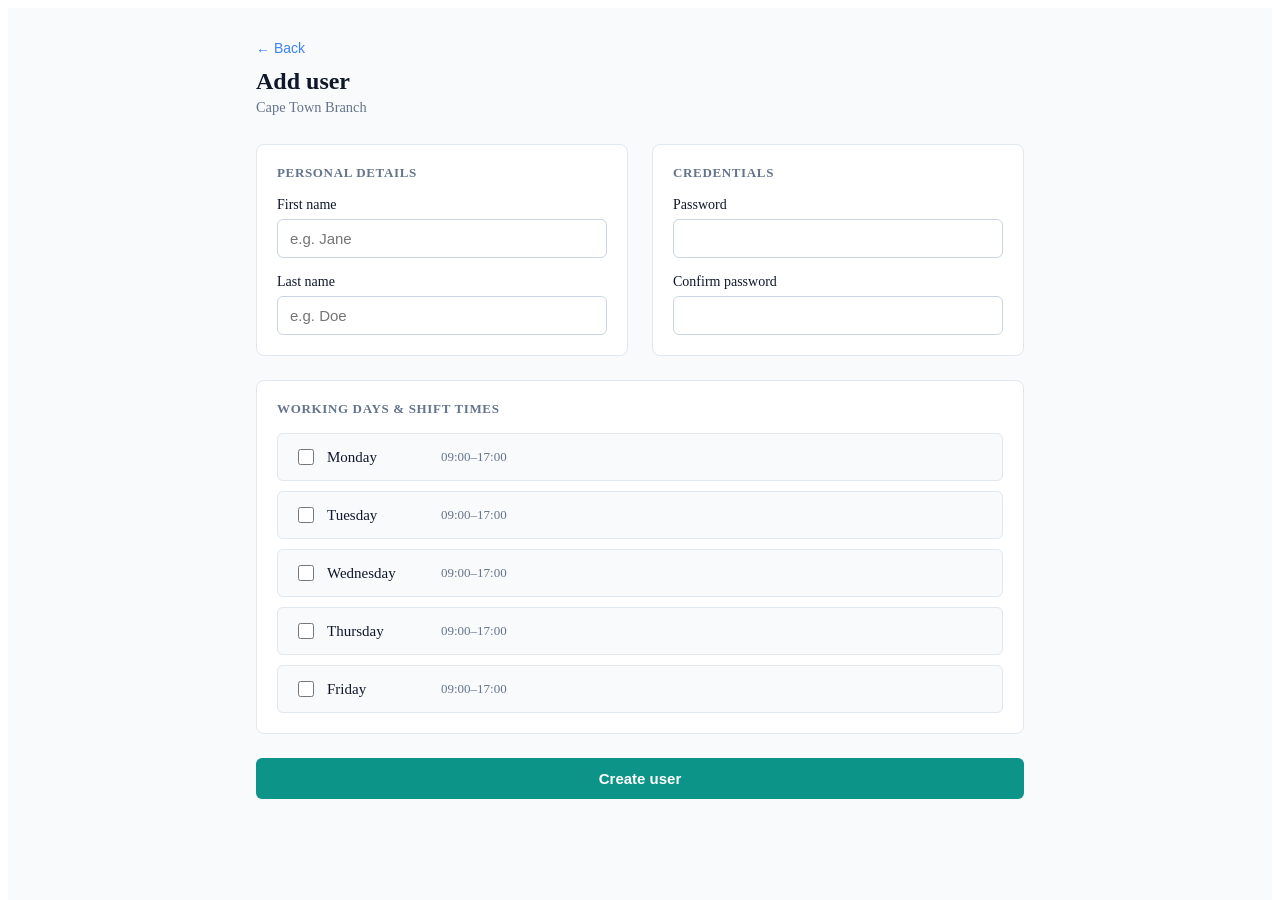
Test: AddUserView › shows username modal after successful submit
The width and height of the screenshot is (1280, 900).
Type "Jane" into the field with test id "first-name-input".
click(442, 238); type("Jane")  # box top-left (277, 219), bottom-right (607, 258)
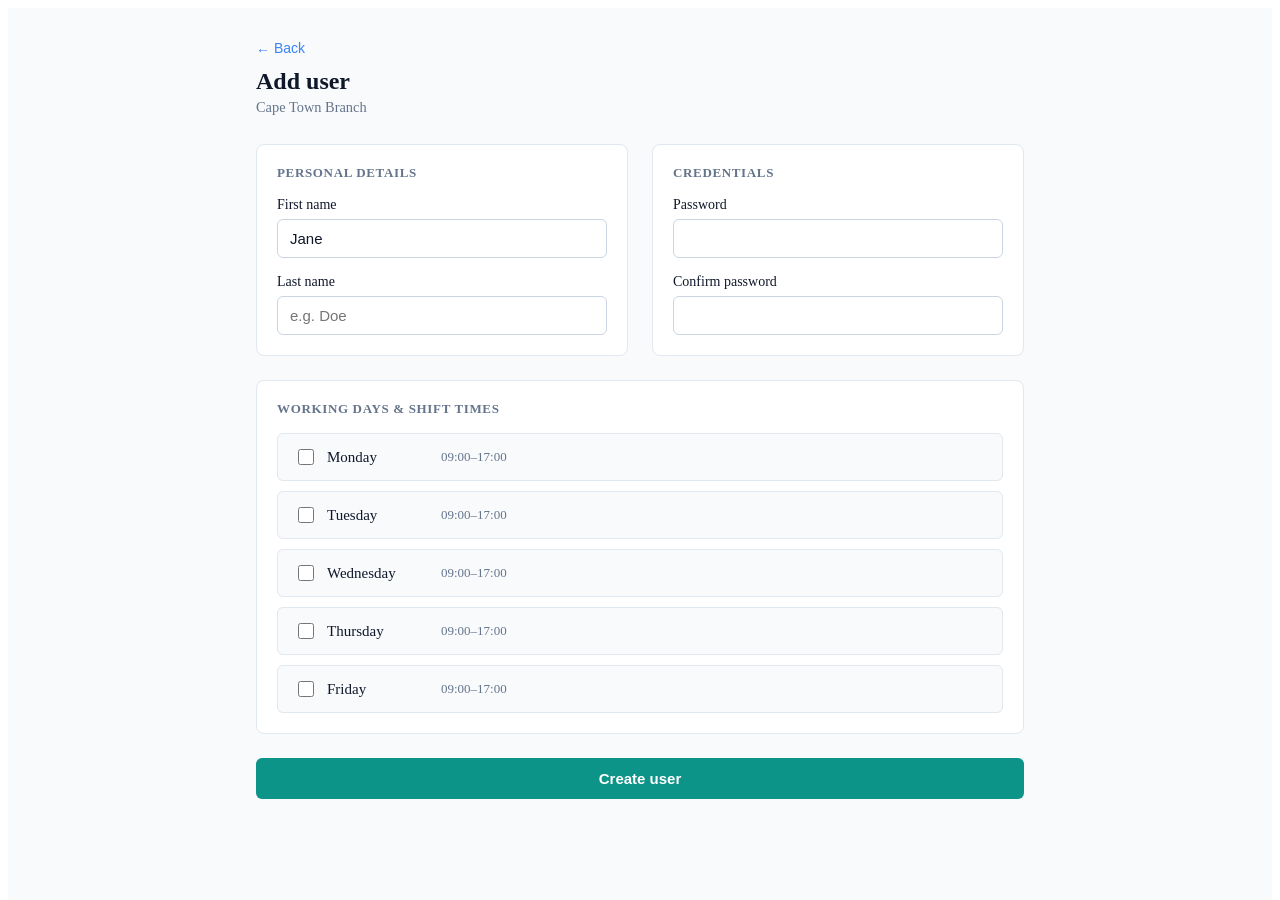
Type "Doe" into the field with test id "last-name-input".
click(442, 316); type("Doe")  # box top-left (277, 296), bottom-right (607, 335)
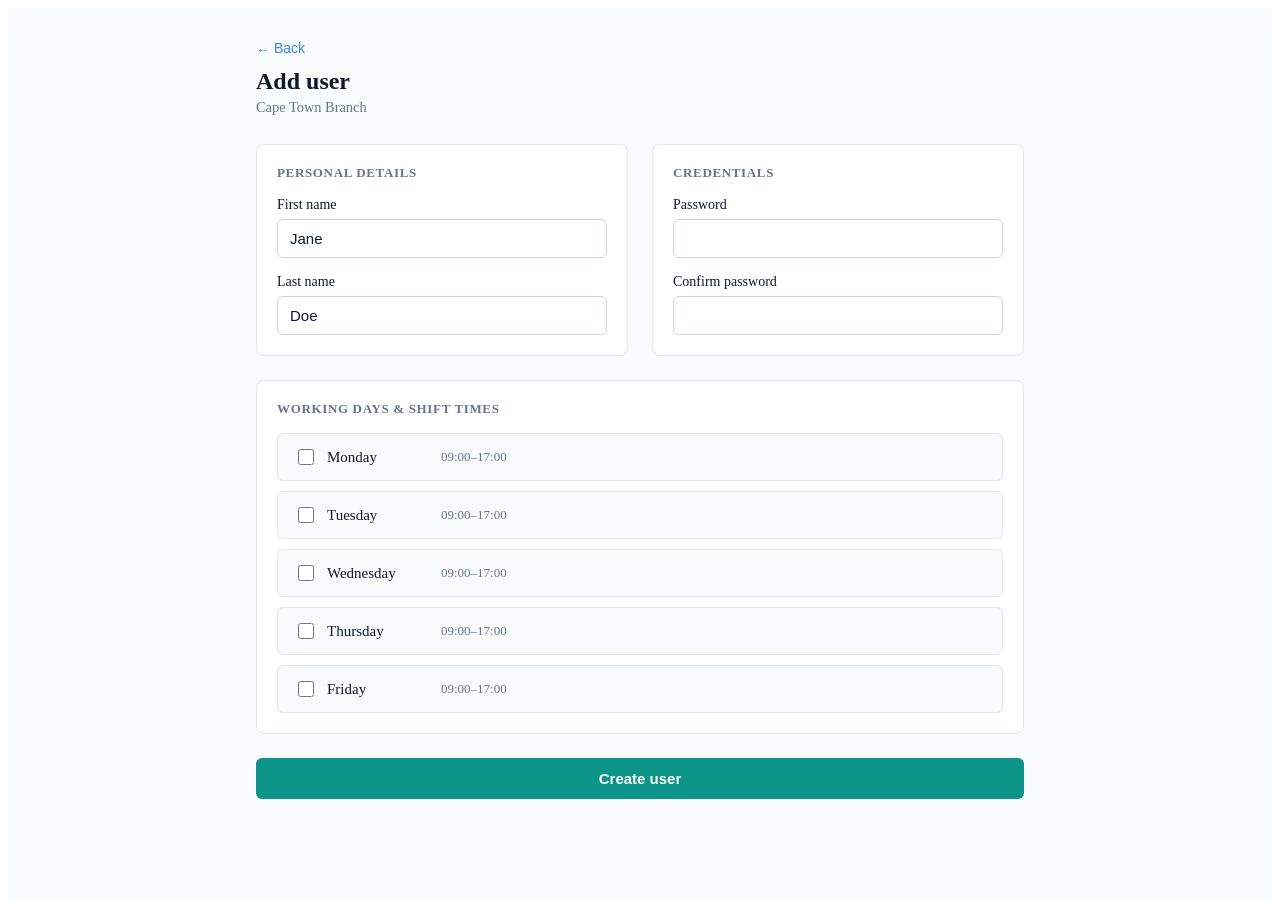
Type "secret99" into the password field with test id "password-input".
click(838, 238); type("secret99")  # box top-left (673, 219), bottom-right (1003, 258)
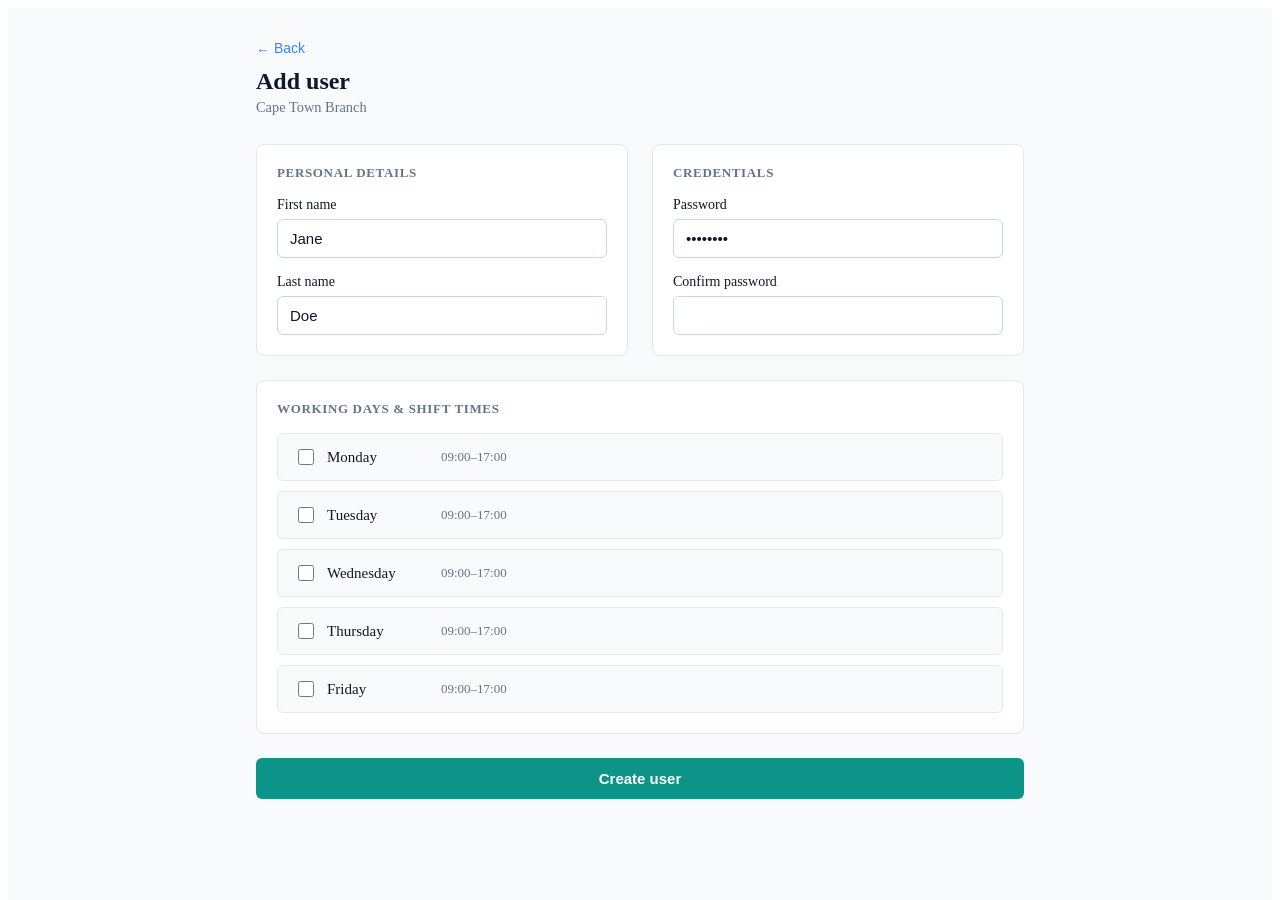
Type "secret99" into the password field with test id "confirm-password-input".
click(838, 316); type("secret99")  # box top-left (673, 296), bottom-right (1003, 335)
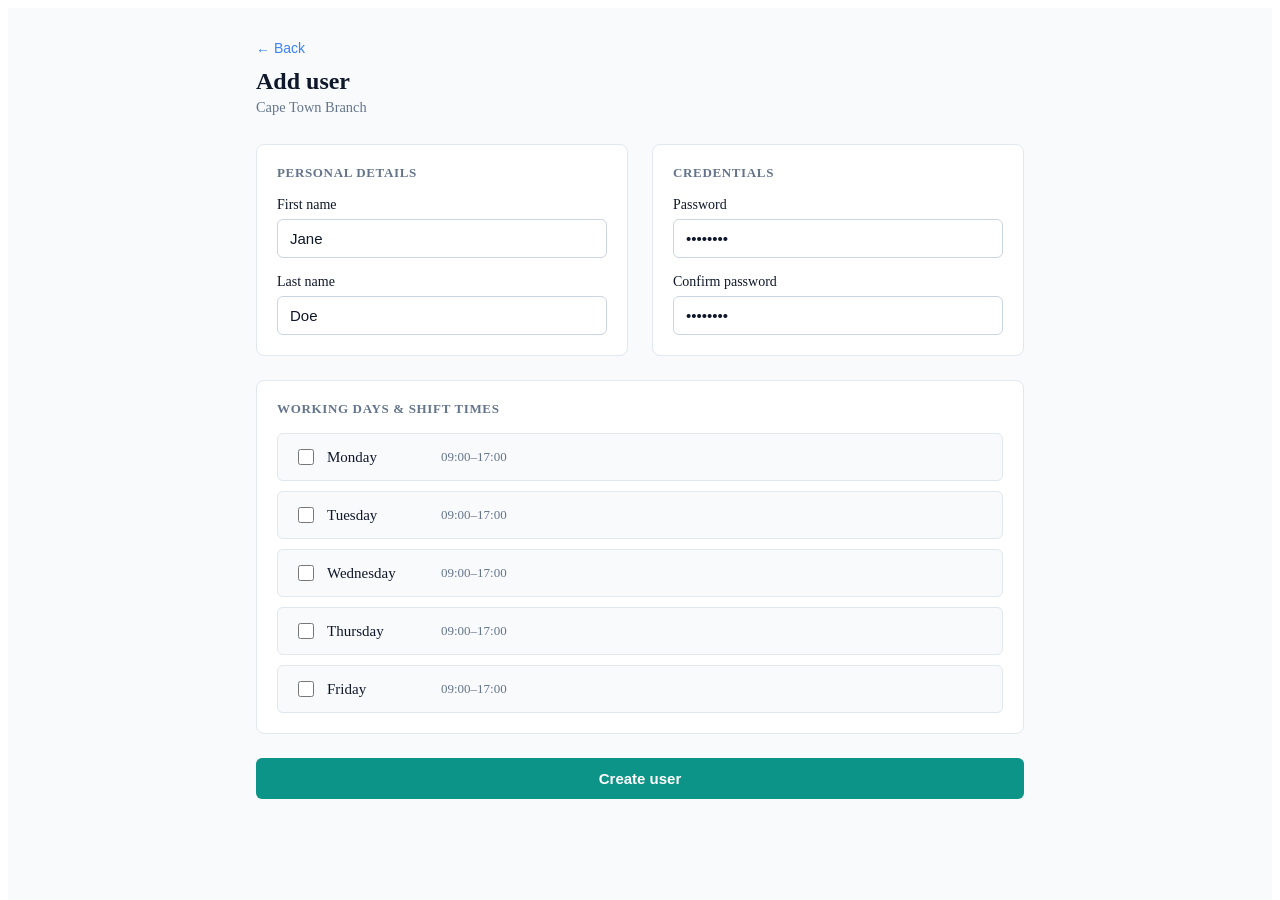
Click the checkbox with test id "work-day-monday".
click(306, 457)  # box top-left (298, 449), bottom-right (314, 465)
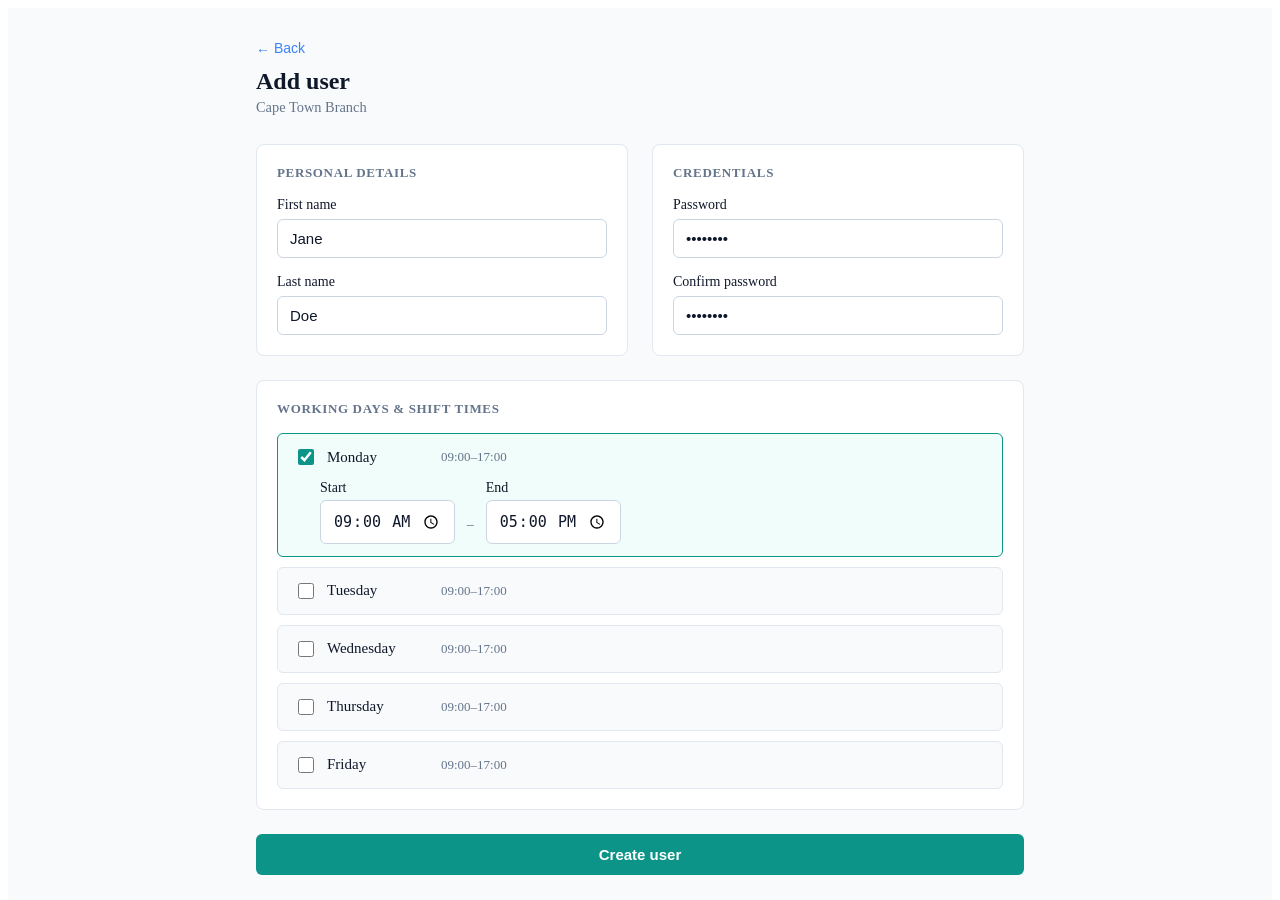
Submit the form with test id "add-user-form", box top-left (256, 144), bottom-right (1024, 875)
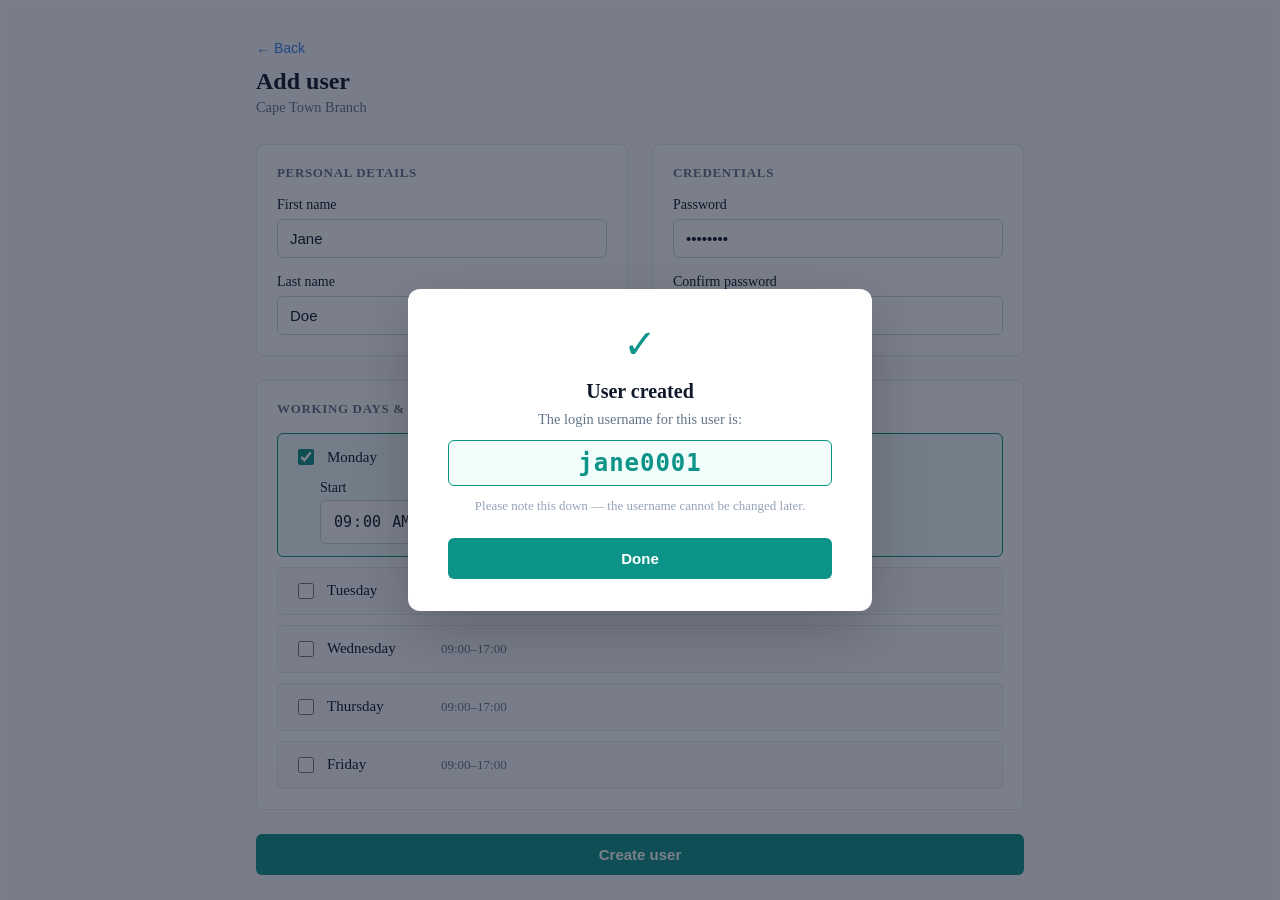
Result: the dialog with test id "username-modal" is shown
